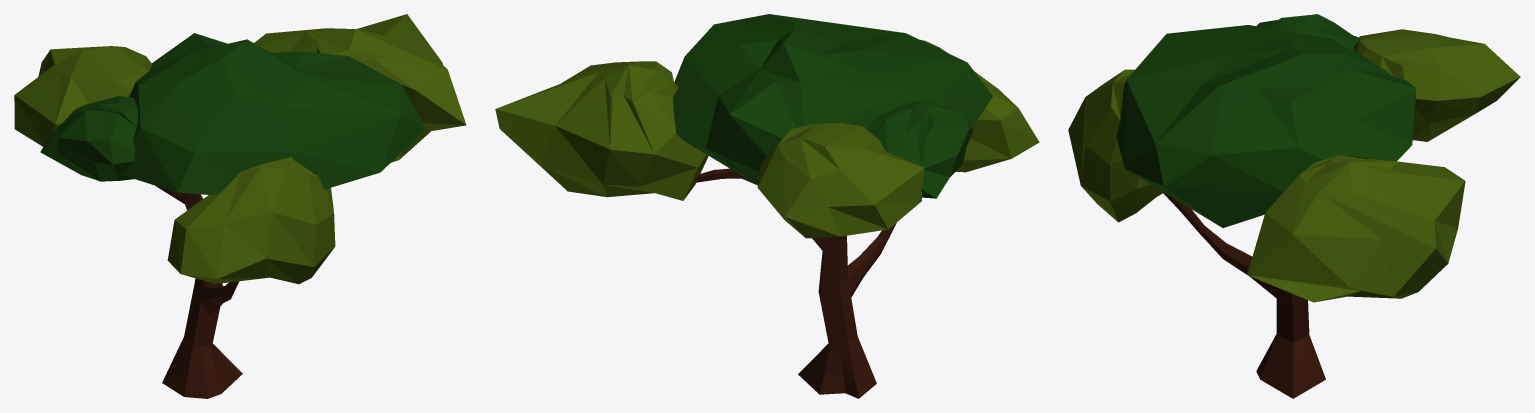
File: Tree_1.FBX
3 views of the same model, side by side, from view 1: azimuth 30°, elevation 25°; view 2: azimuth 150°, elevation 25°; view 3: azimuth 270°, elevation 25° (orthographic). The views are drawn at different scales.
Parts seen in each view (by area): view 1: Tree_1; view 2: Tree_1; view 3: Tree_1.
Part boxes in pixels (x1,y1,x2,y2): Tree_1: (14,14,466,398); Tree_1: (495,14,1039,398); Tree_1: (1068,14,1520,398).
Bounding box in the file's own units: 222 × 167 × 195.
